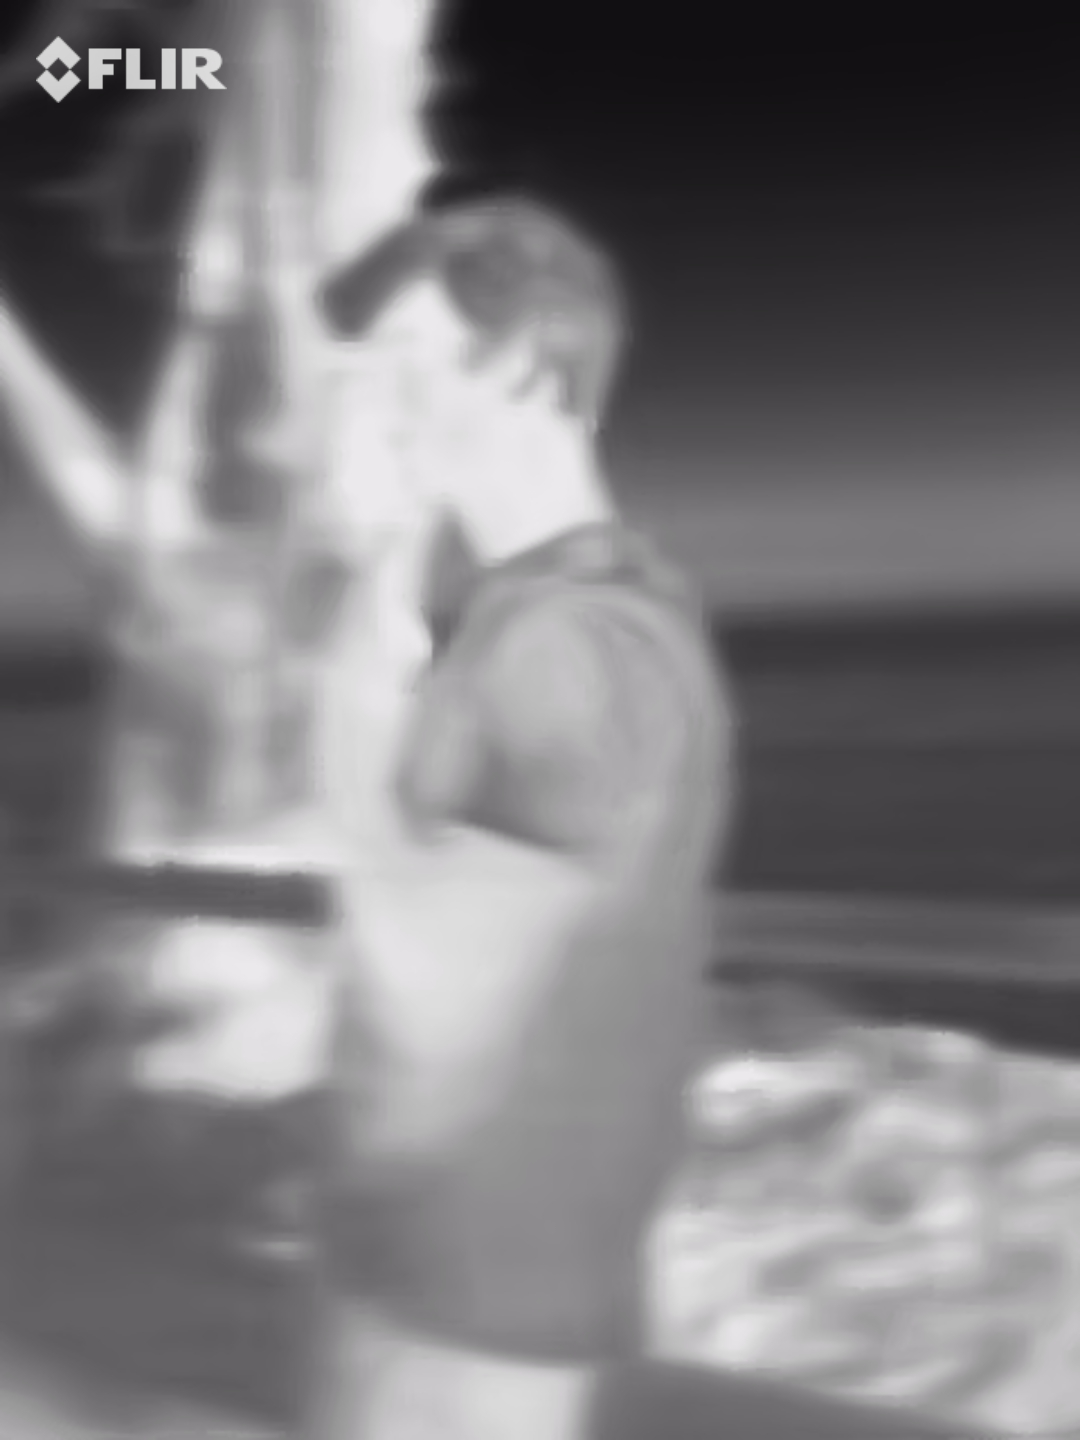head: (323, 201, 616, 500)
